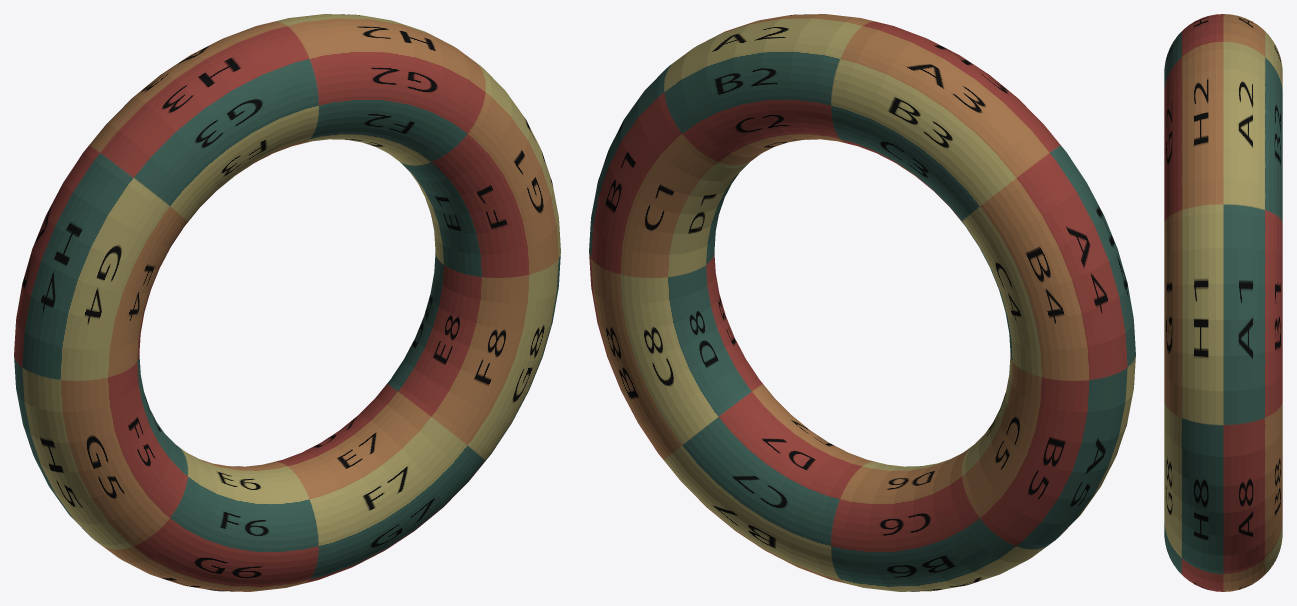
The model's file is texture_torus_R23_r17.glb.
3 views of the same model, side by side, from view 1: azimuth 30°, elevation 25°; view 2: azimuth 150°, elevation 25°; view 3: azimuth 270°, elevation 25° (orthographic). The views are drawn at different scales.
Visible parts, largest first — view 1: world; view 2: world; view 3: world.
Boxes of the visible parts, x1=… form: world: x1=14, y1=14, x2=560, y2=591; world: x1=589, y1=14, x2=1135, y2=591; world: x1=1164, y1=14, x2=1282, y2=591.
Bounding box in the file's own units: 31.87 × 31.8 × 6.52.
Materials: 1 (1 with a texture image).
